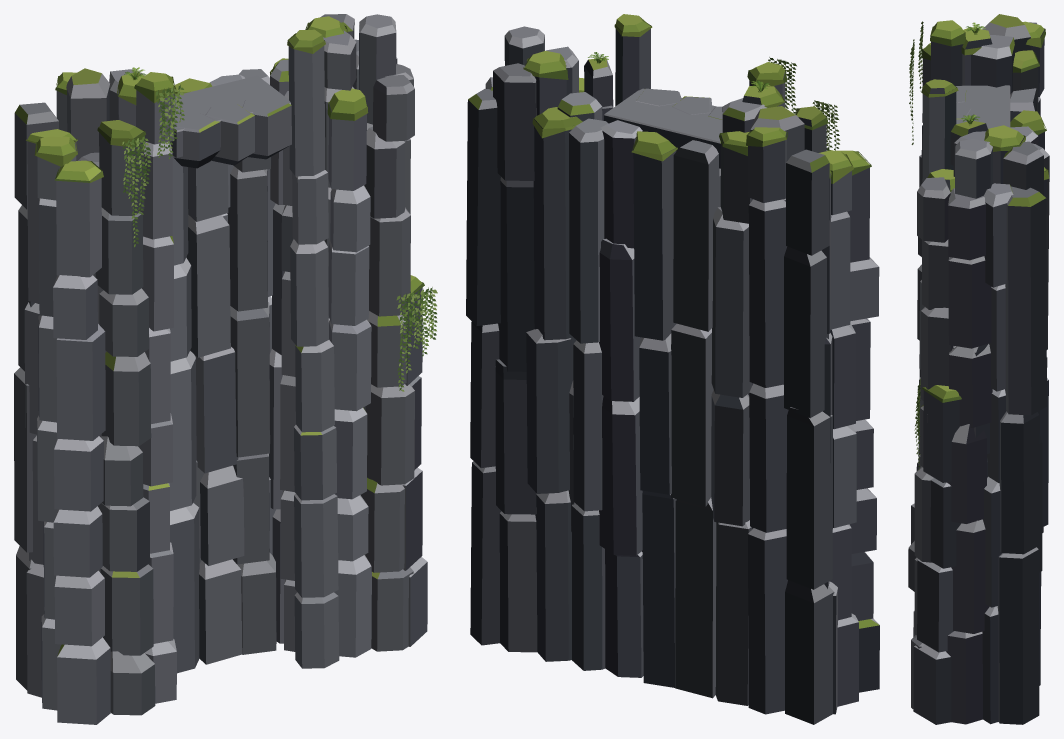
File: wf_basalt_cliff.glb
3 renders of one model, left to right at view 1: azimuth 30°, elevation 25°; view 2: azimuth 150°, elevation 25°; view 3: azimuth 270°, elevation 25°, orthographic. The views are drawn at different scales.
Visible parts, largest first — view 1: wf_basalt_cliff; view 2: wf_basalt_cliff; view 3: wf_basalt_cliff.
Boxes of the visible parts, bbox=[...] form: wf_basalt_cliff: bbox=[14, 14, 437, 724]; wf_basalt_cliff: bbox=[466, 14, 879, 724]; wf_basalt_cliff: bbox=[908, 14, 1049, 724].
Bounding box in the file's own units: 30.06 × 47.92 × 10.47.
